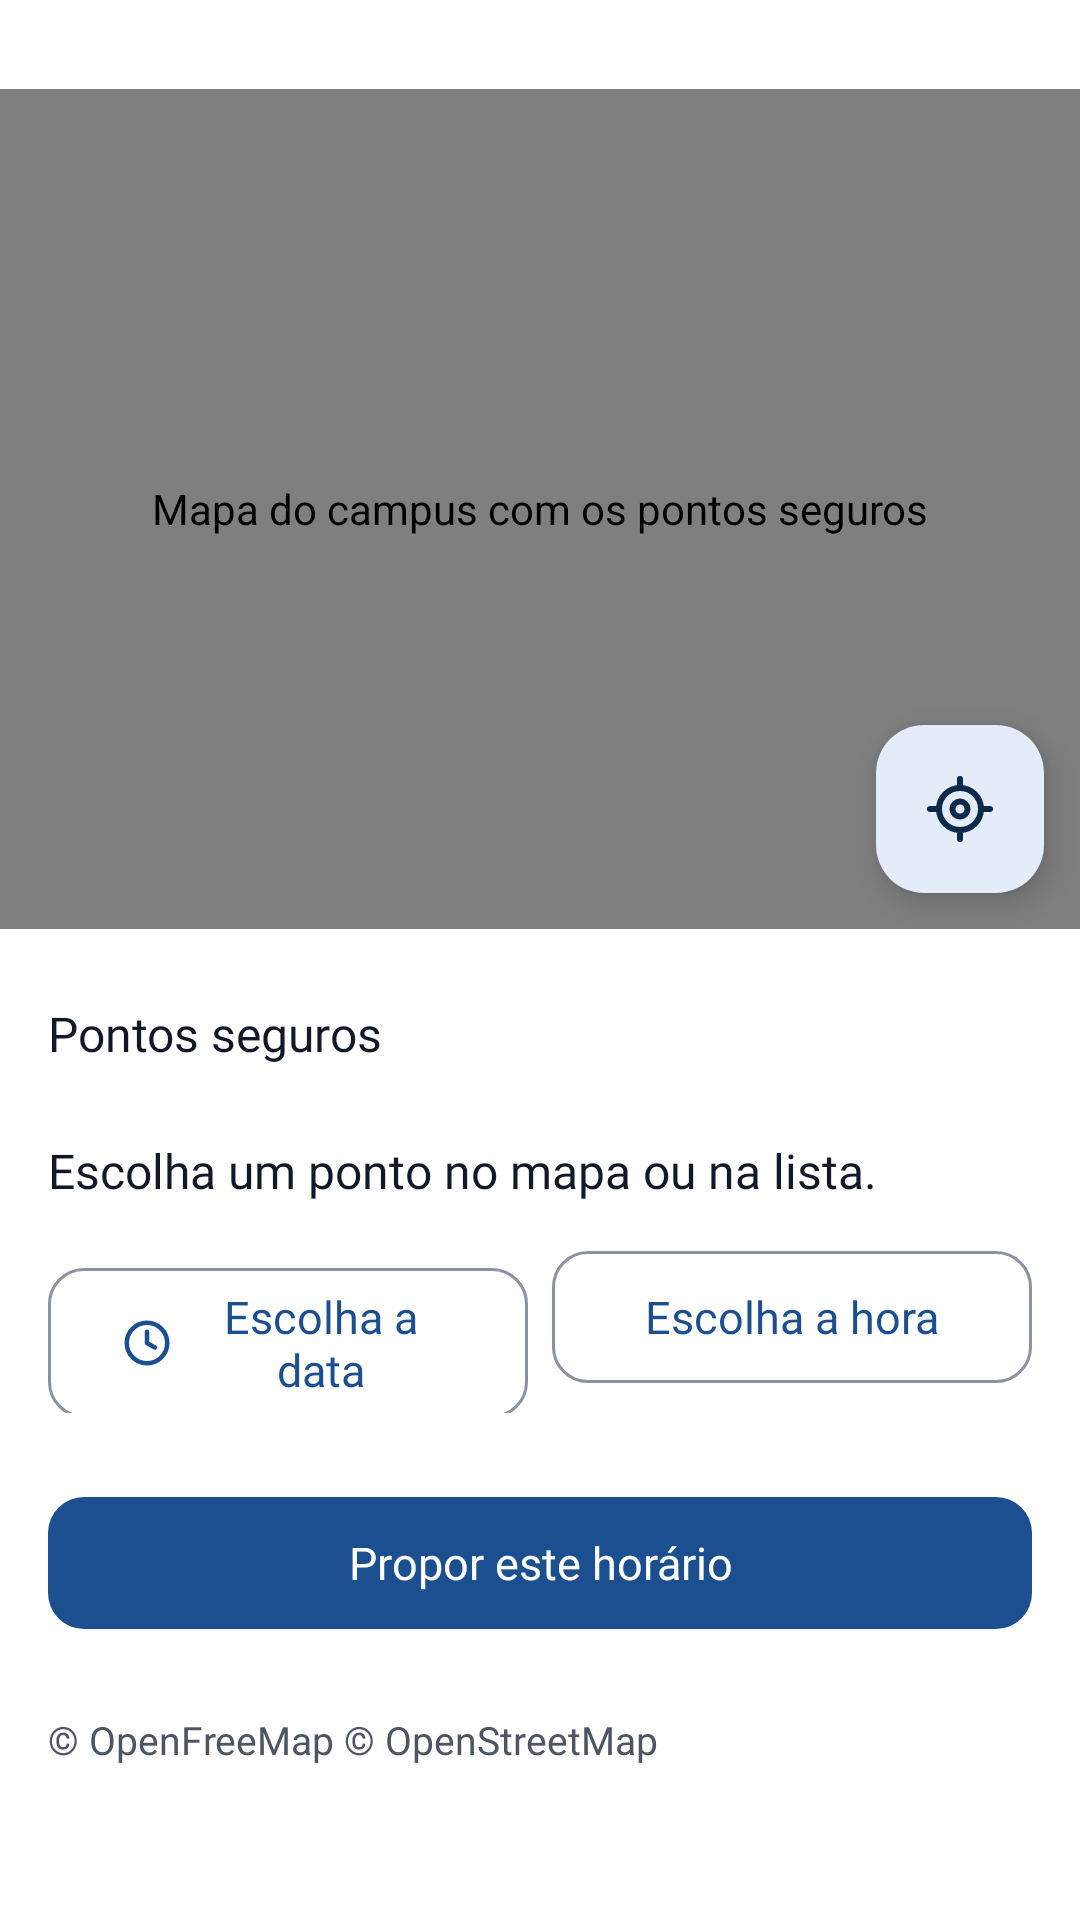

Locate icon controls on the screen. Image size 1080x1920, boxes as box(x1, y1, x2, y2).
Minha localização: box(876, 725, 1044, 893)
